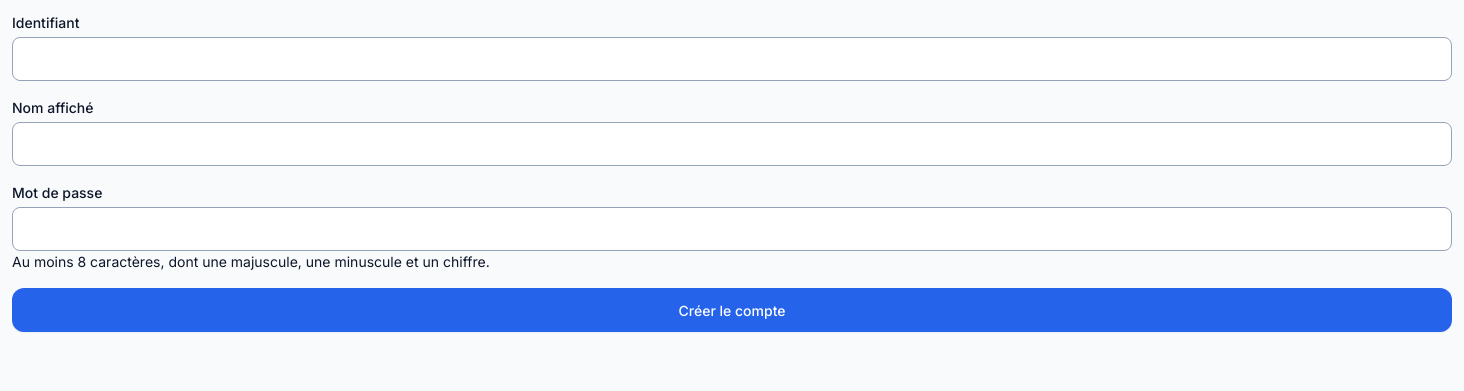
Test case: SignUpForm › lists every password error at once when the server rejects several rules
Type "nouvel-operateur" into the field labelled "Identifiant". click: (732, 59)
box: [12,37,1452,81]
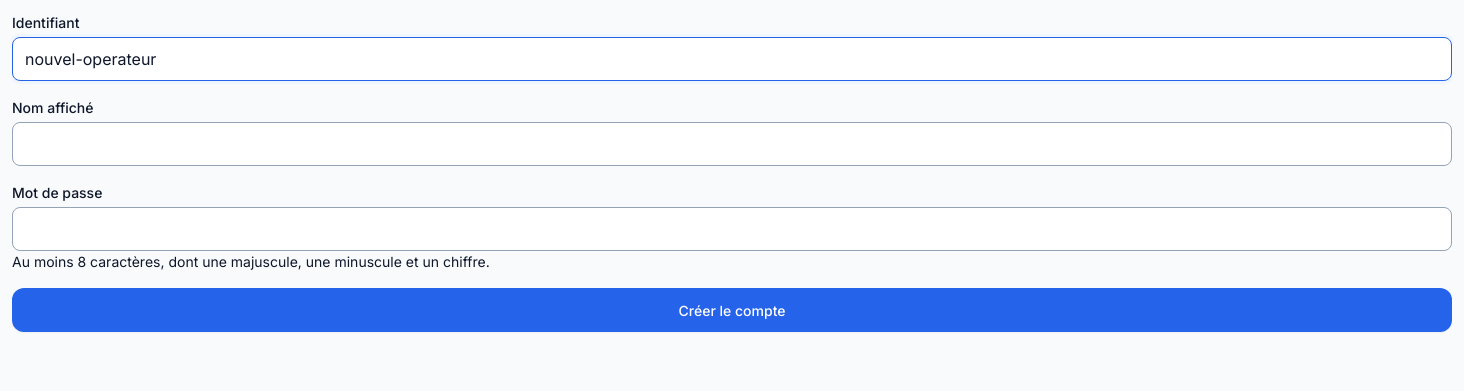
Type "Nouvel opérateur" into the field labelled "Nom affiché". click: (732, 144)
box: [12,122,1452,166]
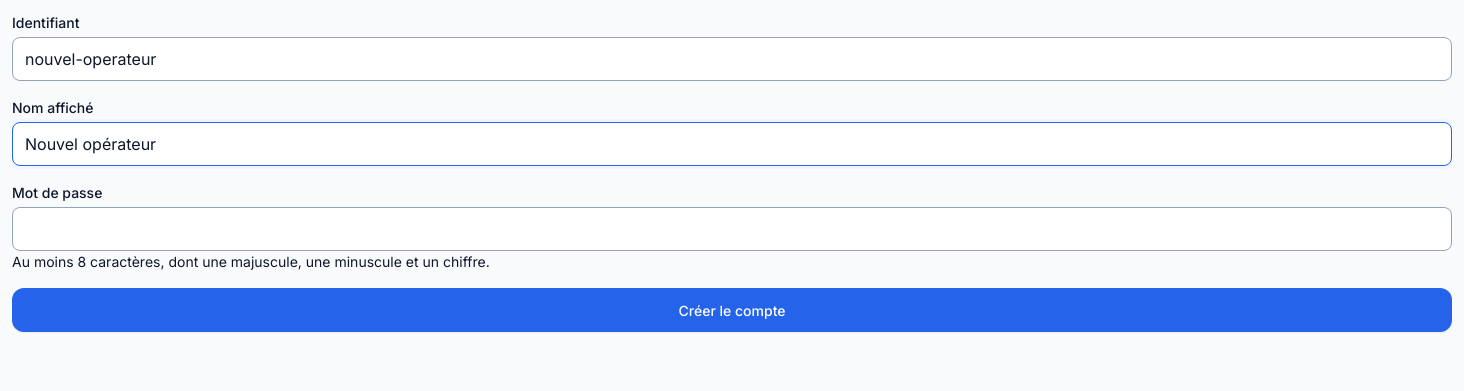
Type "Reception2026" into the password field labelled "Mot de passe". click: (732, 229)
box: [12,207,1452,251]
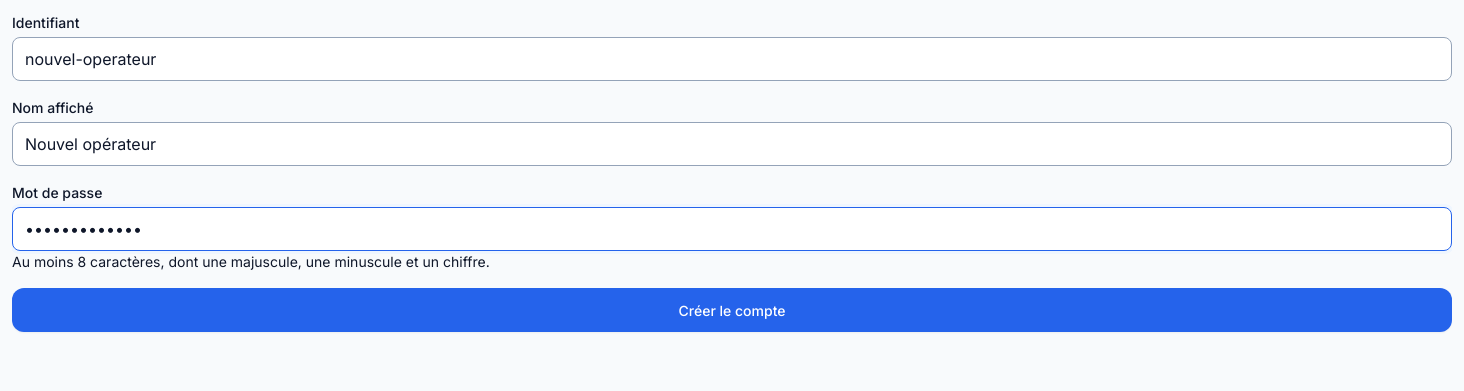
Click the button "Créer le compte". click: (732, 310)
box: [12,288,1452,332]
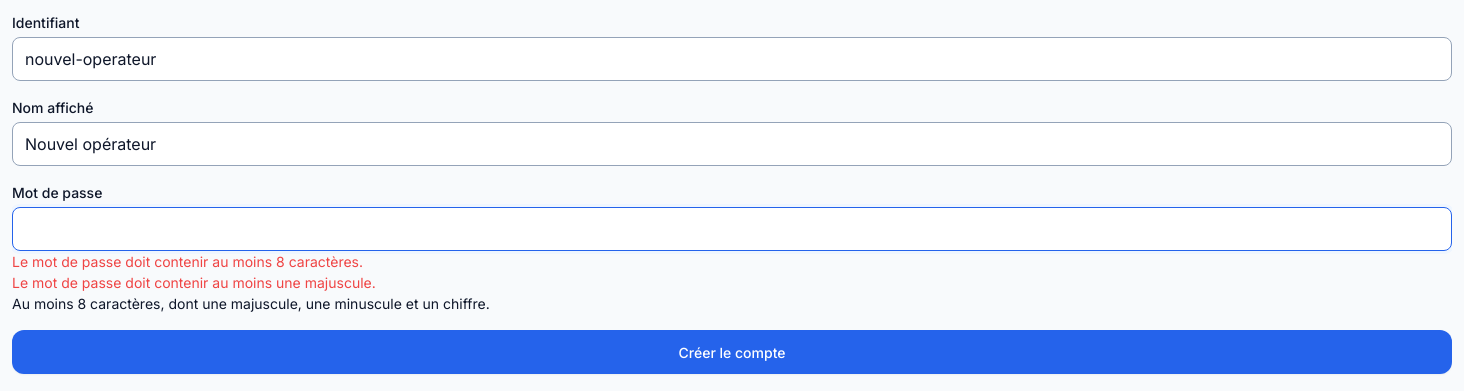
Expected: the text "Le mot de passe doit contenir au moins 8 caractères." is shown, [12,253,363,270]
Expected: the text "Le mot de passe doit contenir au moins une majuscule." is shown, [12,274,376,291]
